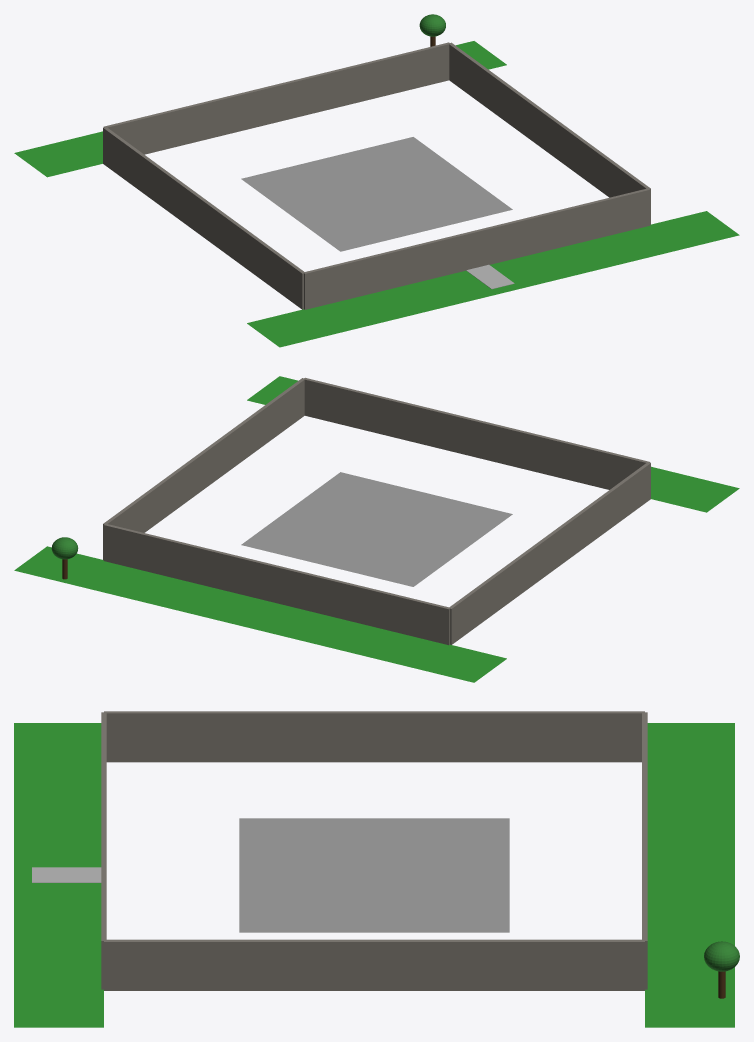
The model's file is enhanced_boq_bd6a9521-bf76-4562-8e47-2f31209d6002.obj.
3 views of the same model, one above another, from view 1: azimuth 30°, elevation 25°; view 2: azimuth 150°, elevation 25°; view 3: azimuth 270°, elevation 25° (orthographic). The views are drawn at different scales.
Visible parts, largest first — view 1: Foundation, FrontYard, ExteriorWall_South, ExteriorWall_North, ExteriorWall_West, ExteriorWall_East, BackYard, Pathway; view 2: Foundation, BackYard, ExteriorWall_North, ExteriorWall_South, ExteriorWall_West, ExteriorWall_East, FrontYard; view 3: Foundation, ExteriorWall_East, ExteriorWall_West, BackYard, FrontYard, ExteriorWall_North, ExteriorWall_South, Pathway, TreeFoliage_0.
Part boxes in pixels (<box>): Foundation: <box>241,137,512,251</box>; FrontYard: <box>247,211,739,347</box>; ExteriorWall_South: <box>304,188,650,309</box>; ExteriorWall_North: <box>103,42,450,154</box>; ExteriorWall_West: <box>103,127,304,309</box>; ExteriorWall_East: <box>449,42,650,224</box>; BackYard: <box>14,41,506,177</box>; Pathway: <box>466,264,514,289</box>; Foundation: <box>241,472,512,586</box>; BackYard: <box>14,546,506,682</box>; ExteriorWall_North: <box>103,523,449,645</box>; ExteriorWall_South: <box>304,377,650,489</box>; ExteriorWall_West: <box>449,462,650,644</box>; ExteriorWall_East: <box>103,378,304,559</box>; FrontYard: <box>247,376,739,512</box>; Foundation: <box>239,818,509,932</box>; ExteriorWall_East: <box>104,939,644,990</box>; ExteriorWall_West: <box>104,711,644,762</box>; BackYard: <box>645,723,734,1027</box>; FrontYard: <box>14,723,103,1027</box>; ExteriorWall_North: <box>642,712,647,989</box>; ExteriorWall_South: <box>101,712,106,989</box>; Pathway: <box>32,867,101,882</box>; TreeFoliage_0: <box>704,941,739,971</box>.
Bounding box in the file's own units: 40 × 3.3 × 40.28.
